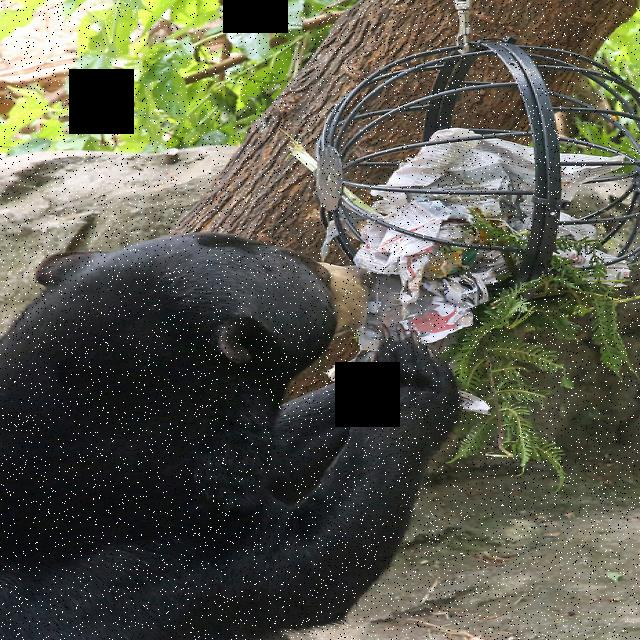Bear: (0, 227, 494, 640)
